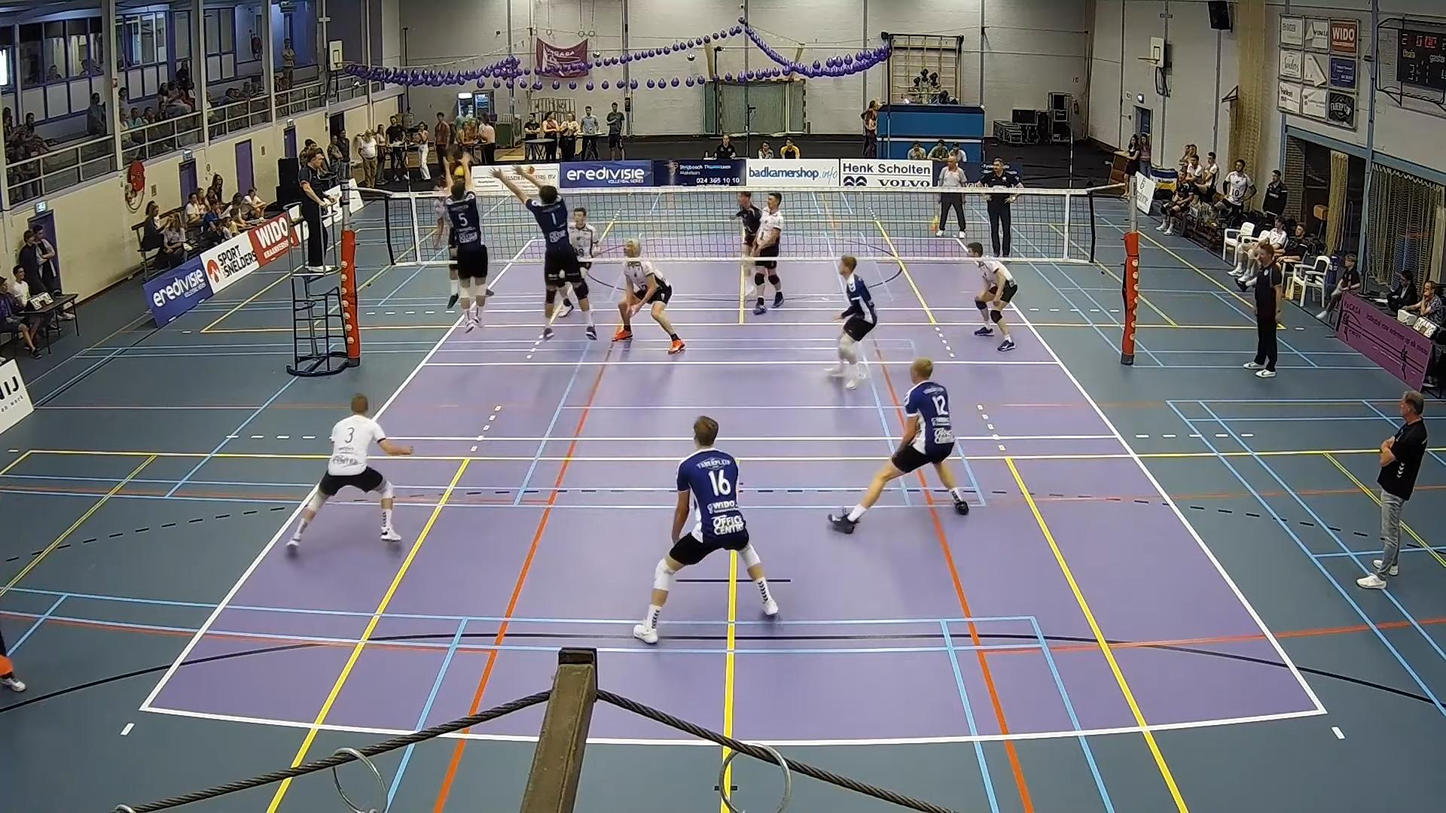attacco: (432, 147, 470, 320)
muro: (493, 165, 589, 331), (442, 167, 500, 324)
